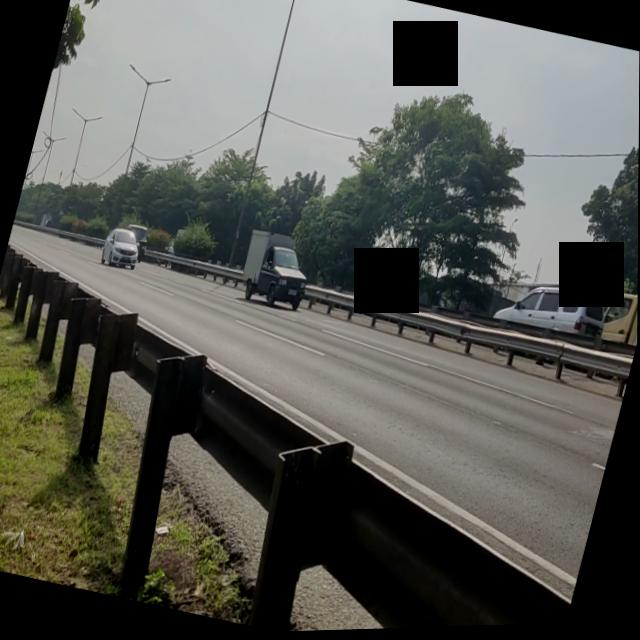Golongan I: (233, 221, 323, 323)
